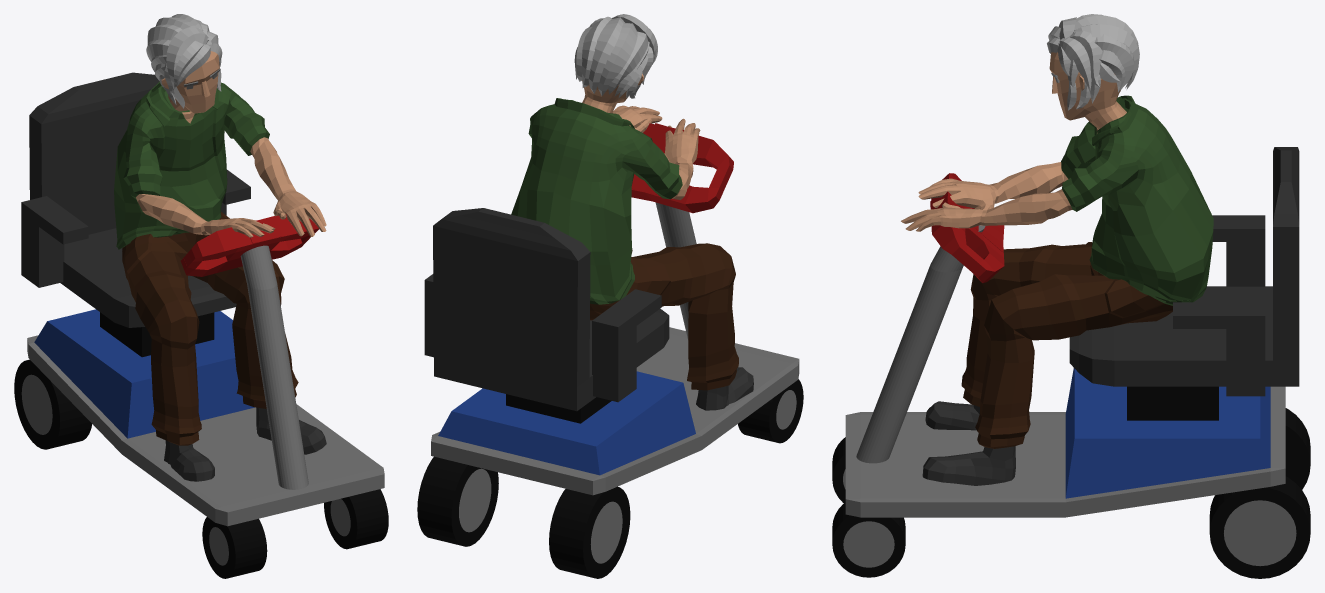
The model's file is scooterman.fbx.
3 renders of one model, left to right at view 1: azimuth 30°, elevation 25°; view 2: azimuth 150°, elevation 25°; view 3: azimuth 270°, elevation 25°, orthographic. The views are drawn at different scales.
Visible parts, largest first — view 1: scooter man; view 2: scooter man; view 3: scooter man.
Boxes of the visible parts, x1=… form: scooter man: x1=14, y1=14, x2=388, y2=578; scooter man: x1=417, y1=14, x2=803, y2=578; scooter man: x1=832, y1=14, x2=1310, y2=578.
Bounding box in the file's own units: 68.78 × 163 × 138.
Materials: 5 (5 with a texture image).
